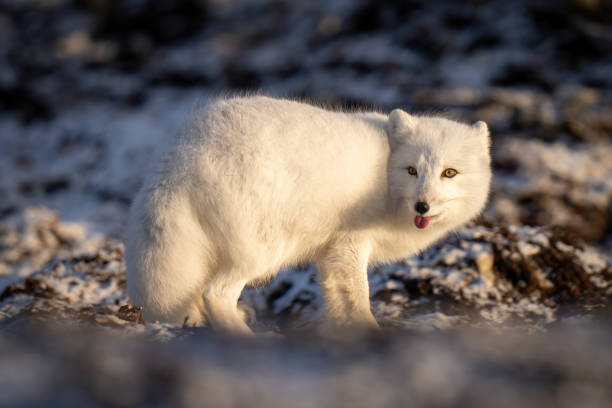arcticfox: (392, 123, 479, 244)
